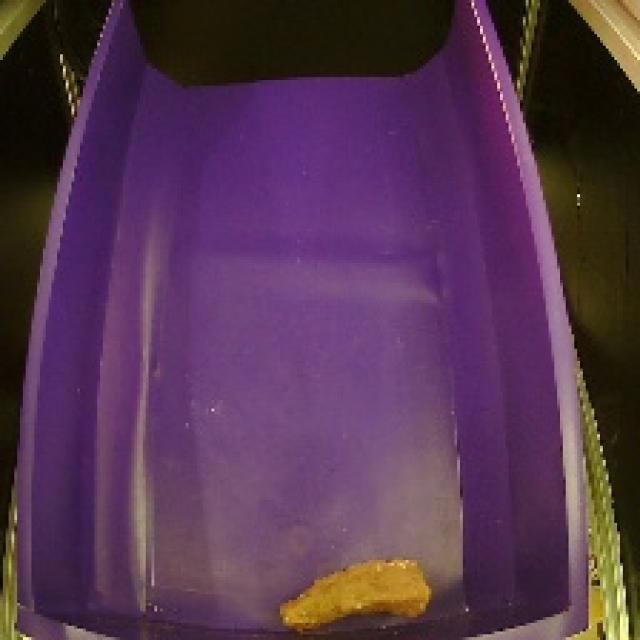brick: (271, 543, 435, 640)
